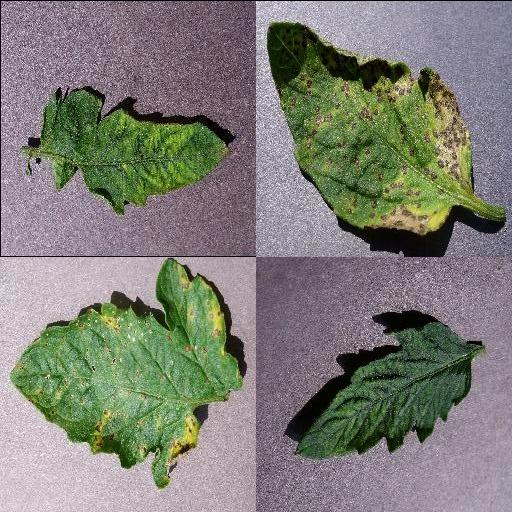Mosaic Virus: (293, 318, 475, 460), (40, 87, 230, 219)
Septoria: (9, 256, 245, 488), (265, 20, 473, 234)
